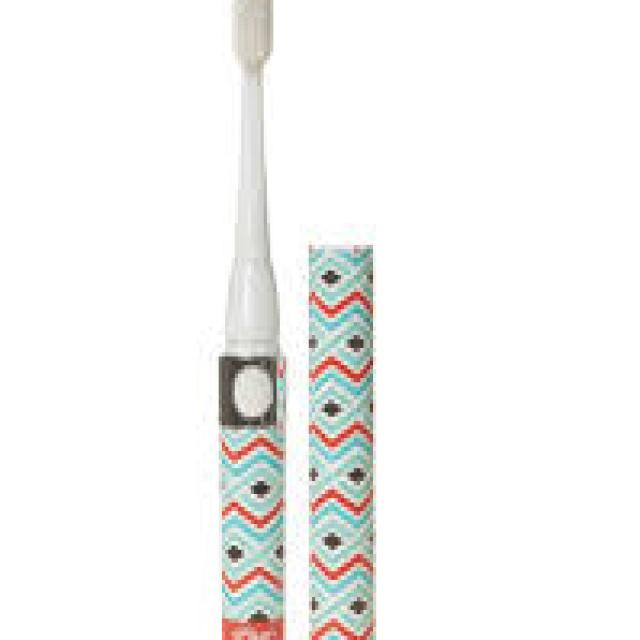organic: (208, 2, 399, 631)
